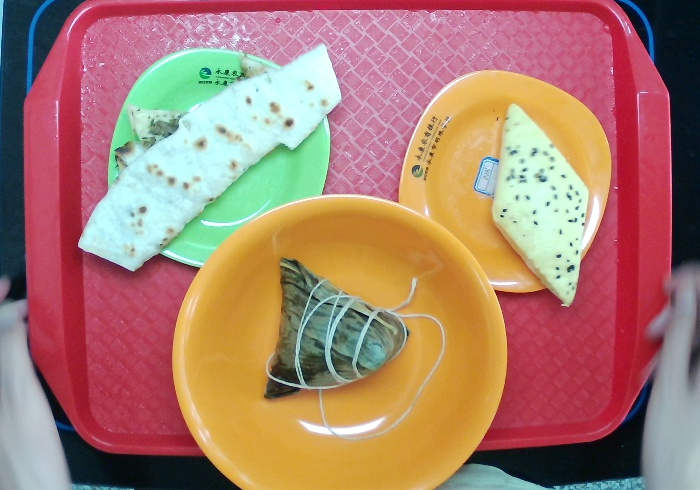YKMZ-Ju_Se_Fang_Die: (395, 67, 616, 297)
YKMZ-Ju_Se_Tang_Wan: (166, 187, 513, 490)
YKMZ-Lv_Se_Fang_Die: (104, 45, 334, 272)
